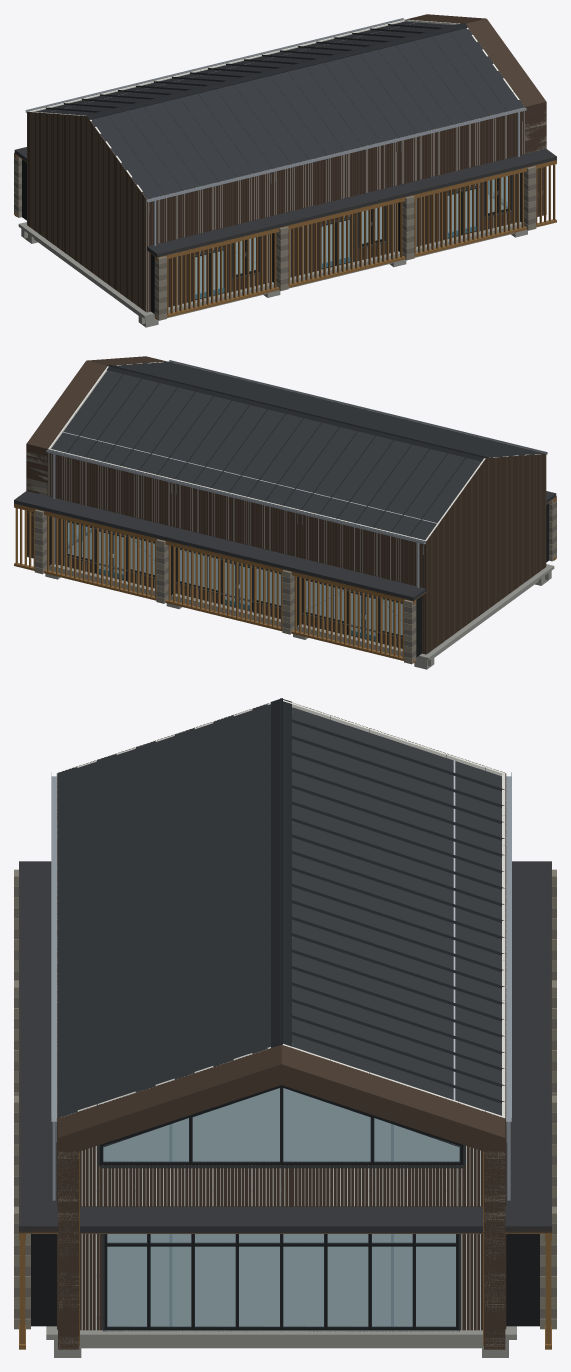
Rendered from nave_sur_10598_detalle.dae.
3 renders of one model, top to bottom at view 1: azimuth 30°, elevation 25°; view 2: azimuth 150°, elevation 25°; view 3: azimuth 270°, elevation 25°, orthographic. The views are drawn at different scales.
Parts seen in each view (by area): view 1: 06 Cubierta paneles - piezas, Muro sur (lateral) (×2), Hastial fondo, Lamas de madera solei sur, Columnas de piedra sur (×3), Vísera lateral sur, Cabeza del portal, Patas del portal cenefa, Puerta lateral 1, Puerta lateral 3, Puerta lateral 2, Muro norte (jardin) (+6 smaller); view 2: 06 Cubierta paneles - piezas, Muro norte (jardin) (×2), Hastial fondo, Lamas de madera solei jardin, Columnas de piedra sur (×3), Vísera lateral jardin, Columnas de piedra jardin, Cabeza del portal, Vidriera jardin 2, Vidriera jardin 1, Vidriera jardin 3, Patas del portal cenefa (+6 smaller); view 3: 06 Cubierta paneles - piezas, Columnas de piedra sur (×3), Vidriera avenida 1, Hastial avenida (×2), Ventana poligonal hastial, Cabeza del portal, Vísera lateral jardin, Vísera lateral sur, Vísera frontal del portal, Patas del portal cenefa, Platea, vigas y nudos, Aletas de chapa jardin (+9 smaller).
Part boxes in pixels (x1=…): 06 Cubierta paneles - piezas: x1=35, y1=21, x2=524, y2=199; Muro sur (lateral) (×2): x1=147, y1=107, x2=525, y2=312; Hastial fondo: x1=27, y1=112, x2=146, y2=312; Lamas de madera solei sur: x1=155, y1=160, x2=556, y2=319; Columnas de piedra sur (×3): x1=18, y1=18, x2=536, y2=324; Vísera lateral sur: x1=147, y1=149, x2=556, y2=257; Cabeza del portal: x1=406, y1=14, x2=546, y2=106; Patas del portal cenefa: x1=525, y1=102, x2=546, y2=216; Puerta lateral 1: x1=195, y1=247, x2=227, y2=300; Puerta lateral 3: x1=447, y1=186, x2=480, y2=239; Puerta lateral 2: x1=321, y1=217, x2=354, y2=269; Muro norte (jardin): x1=29, y1=20, x2=404, y2=111; 06 Cubierta paneles - piezas: x1=51, y1=361, x2=544, y2=539; Muro norte (jardin) (×2): x1=48, y1=449, x2=426, y2=654; Hastial fondo: x1=426, y1=453, x2=546, y2=654; Lamas de madera solei jardin: x1=14, y1=504, x2=415, y2=663; Columnas de piedra sur (×3): x1=46, y1=360, x2=556, y2=666; Vísera lateral jardin: x1=14, y1=491, x2=426, y2=601; Columnas de piedra jardin: x1=34, y1=509, x2=416, y2=664; Cabeza del portal: x1=26, y1=356, x2=165, y2=448; Vidriera jardin 2: x1=175, y1=547, x2=280, y2=609; Vidriera jardin 1: x1=301, y1=578, x2=402, y2=638; Vidriera jardin 3: x1=64, y1=520, x2=154, y2=578; Patas del portal cenefa: x1=26, y1=444, x2=47, y2=558; 06 Cubierta paneles - piezas: x1=58, y1=698, x2=504, y2=1117; Columnas de piedra sur (×3): x1=14, y1=772, x2=516, y2=1354; Vidriera avenida 1: x1=102, y1=1234, x2=460, y2=1331; Hastial avenida (×2): x1=58, y1=1044, x2=504, y2=1330; Ventana poligonal hastial: x1=97, y1=1085, x2=465, y2=1168; Cabeza del portal: x1=58, y1=1045, x2=505, y2=1151; Vísera lateral jardin: x1=505, y1=861, x2=551, y2=1233; Vísera lateral sur: x1=19, y1=861, x2=57, y2=1233; Vísera frontal del portal: x1=79, y1=1206, x2=483, y2=1233; Patas del portal cenefa: x1=58, y1=1138, x2=505, y2=1349; Platea, vigas y nudos: x1=54, y1=1340, x2=481, y2=1357; Aletas de chapa jardin: x1=506, y1=1234, x2=539, y2=1326.
Size of the model in its own units: 22.5 by 13.96 by 8.88.
